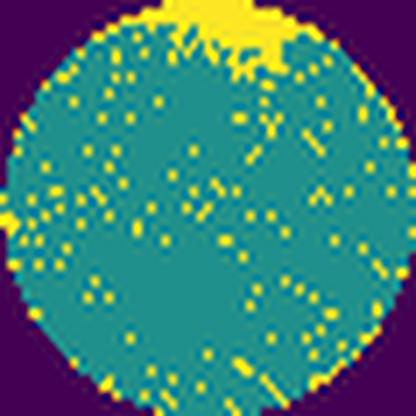Edge-Loc: (93, 0, 325, 75)
